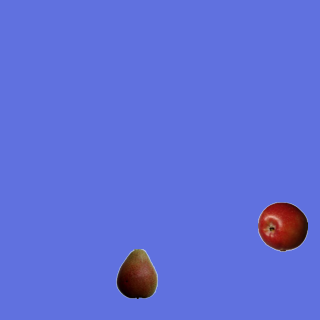Apple Braeburn: (257, 201, 307, 251)
Pear Forelle: (111, 248, 161, 298)
